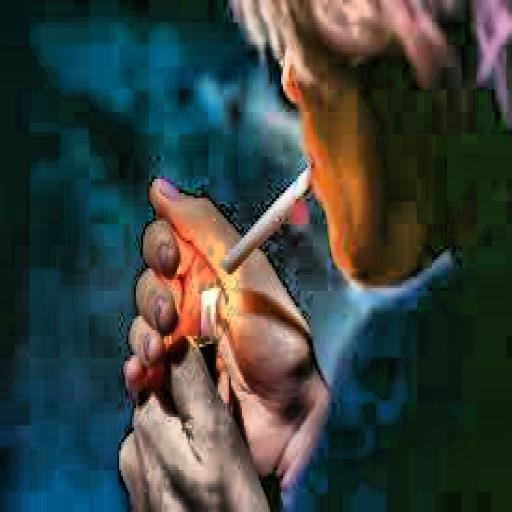fire: (190, 274, 231, 342)
